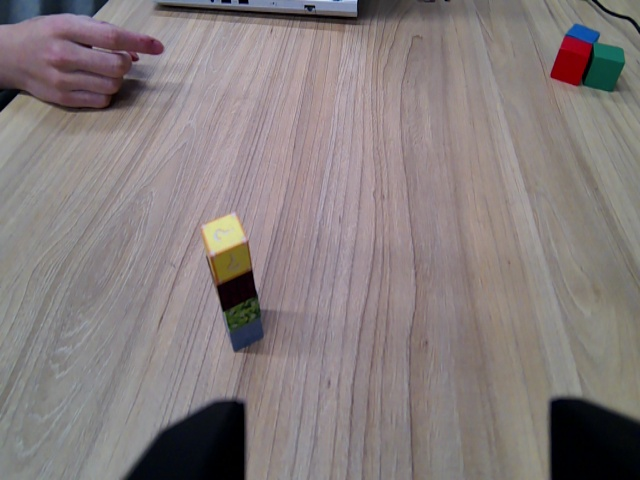brick: (215, 276, 256, 303)
grass: (223, 304, 262, 322)
lucky: (199, 212, 252, 271)
stone: (229, 326, 264, 345)
